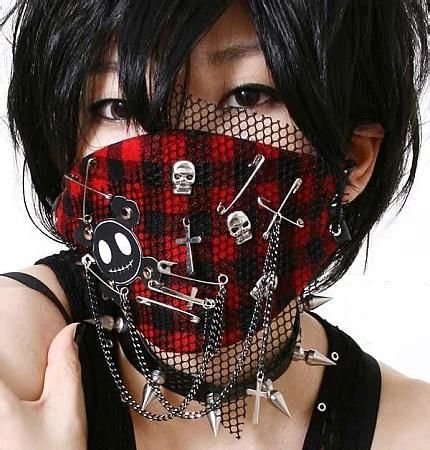face_mask: (79, 14, 302, 307)
